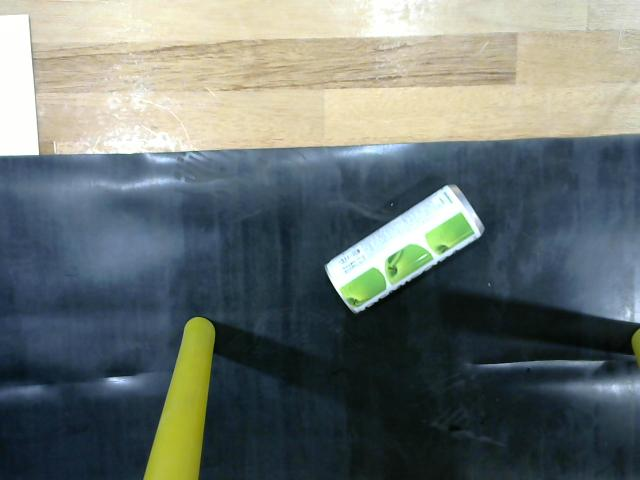can: (322, 181, 490, 317)
